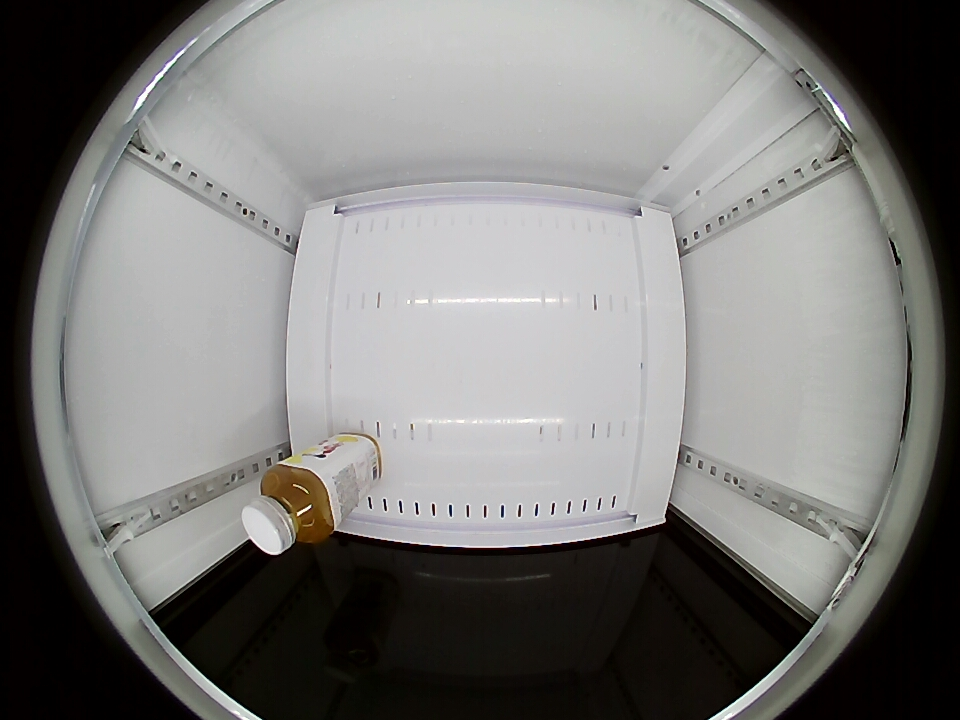chapai: (242, 461, 337, 555)
